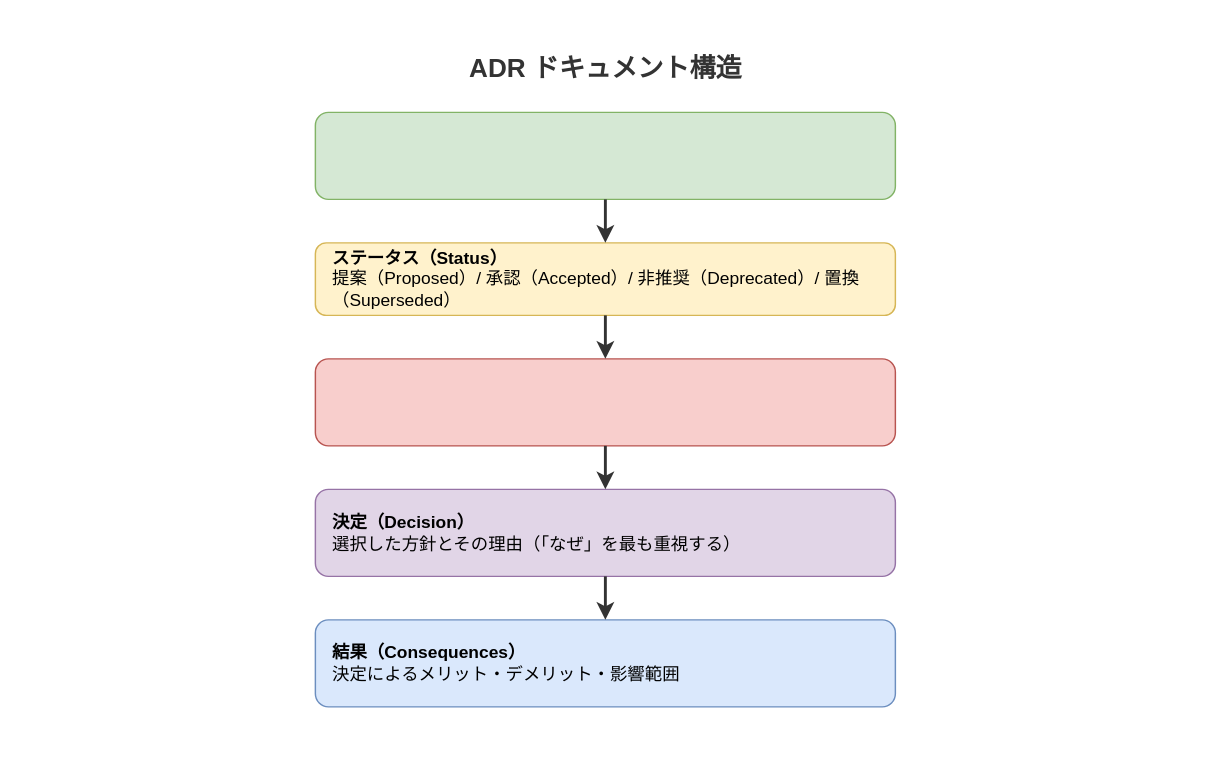
This 1209x774 diagram has some shape labels left out. The shapes that lost their labels are listed below. From the top down, each one's centre as x and y in pixels, then its label:
At point 604,155: "タイトル（Title） 連番 + 決定内容の要約 例: ADR-0002 データベースに PostgreSQL を採用する".
At point 604,401: "コンテキスト（Context） 決定が必要になった背景・技術的状況・制約条件".
